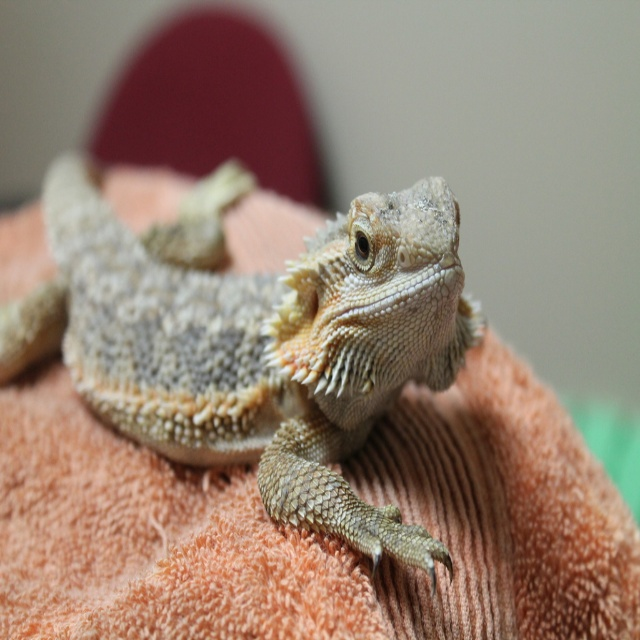Lizard: (53, 159, 608, 606)
